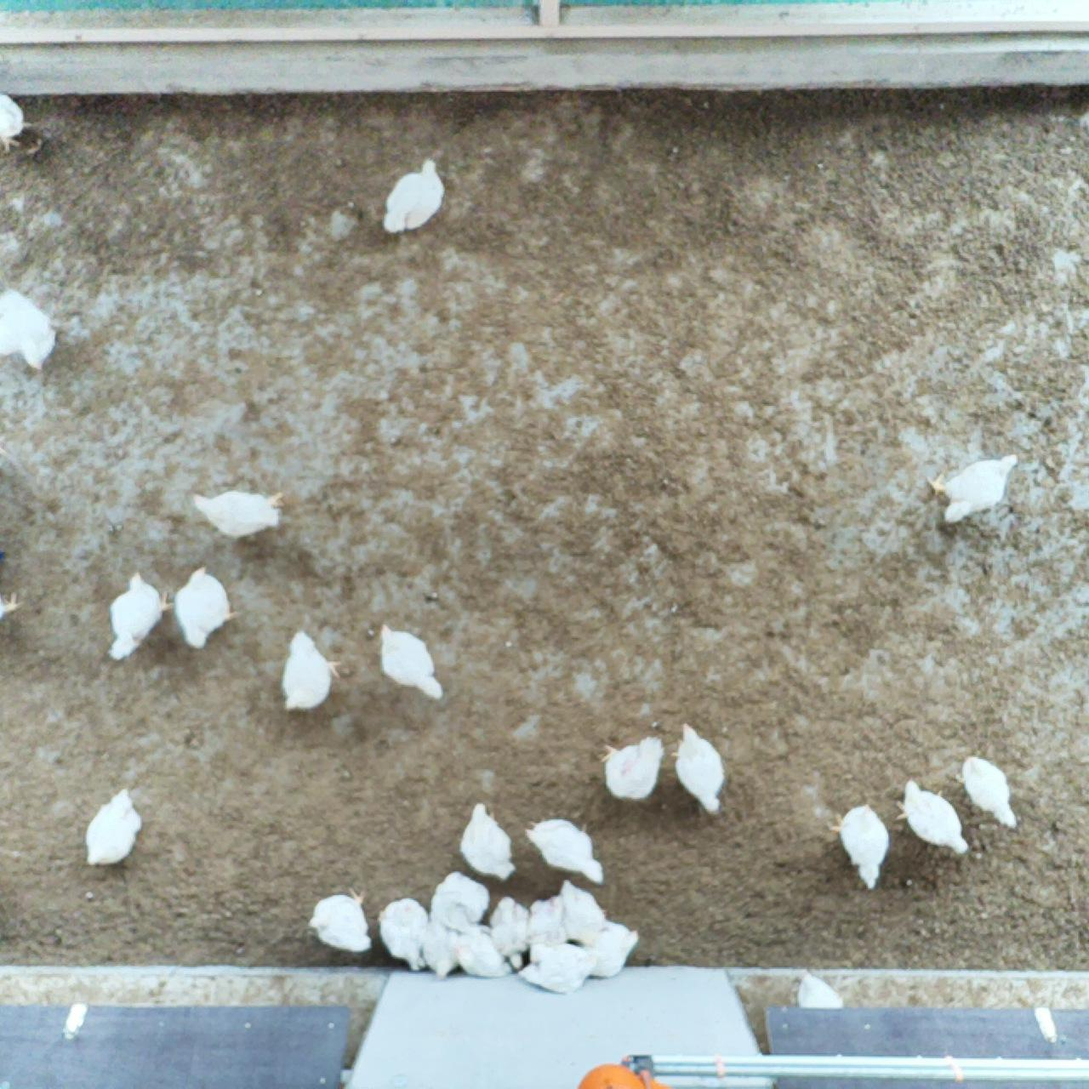chicken: (923, 449, 1021, 527), (101, 566, 174, 663), (893, 775, 974, 860), (522, 810, 608, 887), (374, 620, 449, 707), (274, 627, 346, 716), (174, 563, 244, 653), (828, 800, 895, 894), (186, 485, 290, 543), (670, 719, 731, 817), (81, 785, 147, 873), (378, 156, 448, 238), (0, 284, 61, 376), (954, 750, 1022, 832), (595, 732, 668, 805), (305, 884, 377, 958), (457, 800, 521, 883), (377, 897, 435, 976), (516, 944, 602, 997), (426, 868, 492, 931), (582, 917, 643, 979), (485, 892, 531, 972), (455, 922, 513, 981), (559, 876, 609, 943), (418, 918, 465, 981), (526, 891, 568, 951), (794, 967, 847, 1013), (0, 90, 30, 157)
